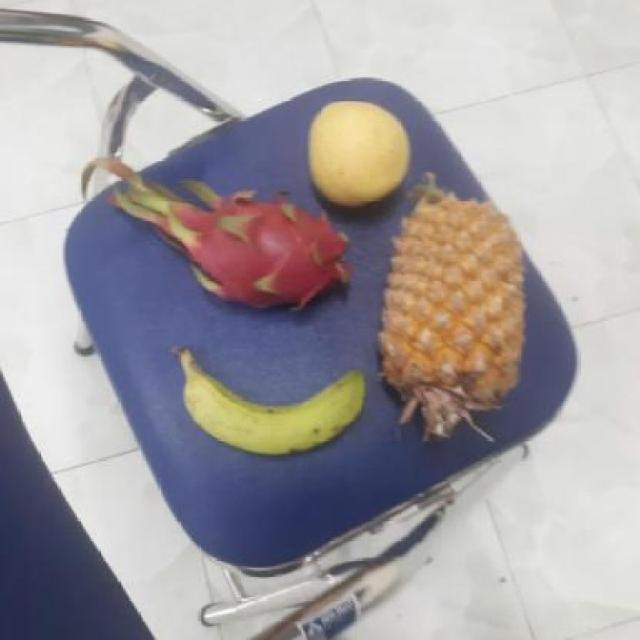banana: (172, 355, 362, 454)
dragon fruit: (172, 192, 352, 314)
pear: (303, 103, 415, 208)
